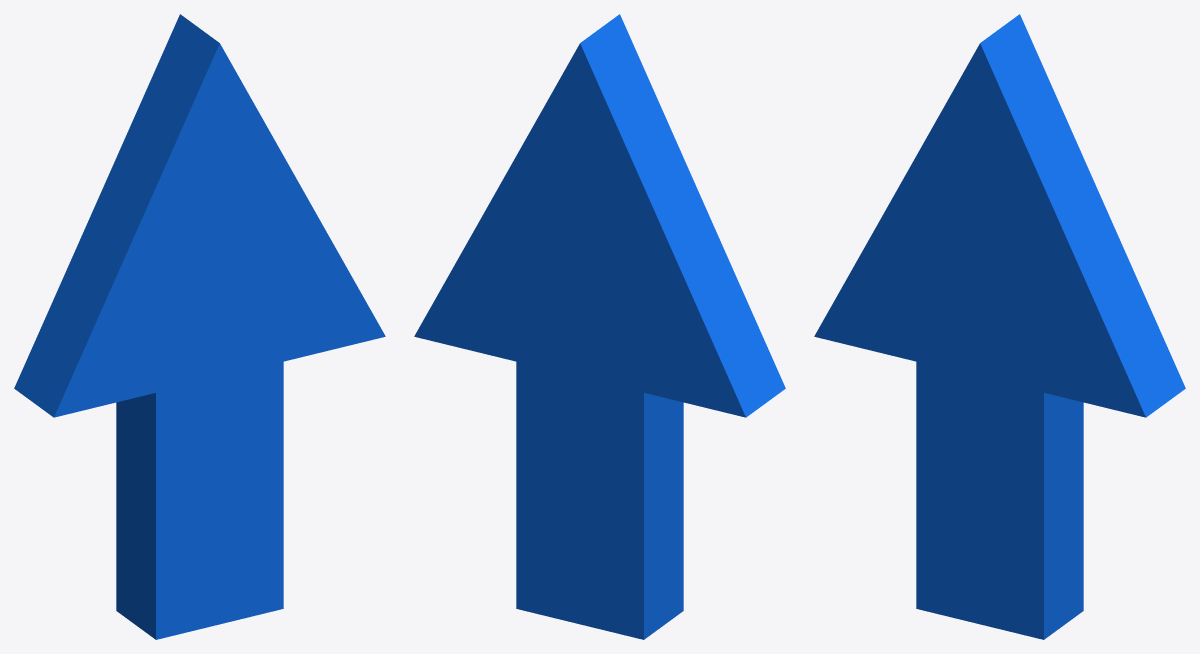
The model's file is blueArrow.fbx.
3 renders of one model, left to right at view 1: azimuth 30°, elevation 25°; view 2: azimuth 150°, elevation 25°; view 3: azimuth 330°, elevation 25°, orthographic.
Visible parts, largest first — view 1: blue_arrow; view 2: blue_arrow; view 3: blue_arrow.
Boxes of the visible parts, x1,y1,x2,y2 form: blue_arrow: (14,14,385,639); blue_arrow: (414,14,785,639); blue_arrow: (814,14,1185,639).
Size of the model in its own units: 520 by 870 by 108.
